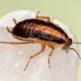cockroach: (11, 17, 73, 51)
